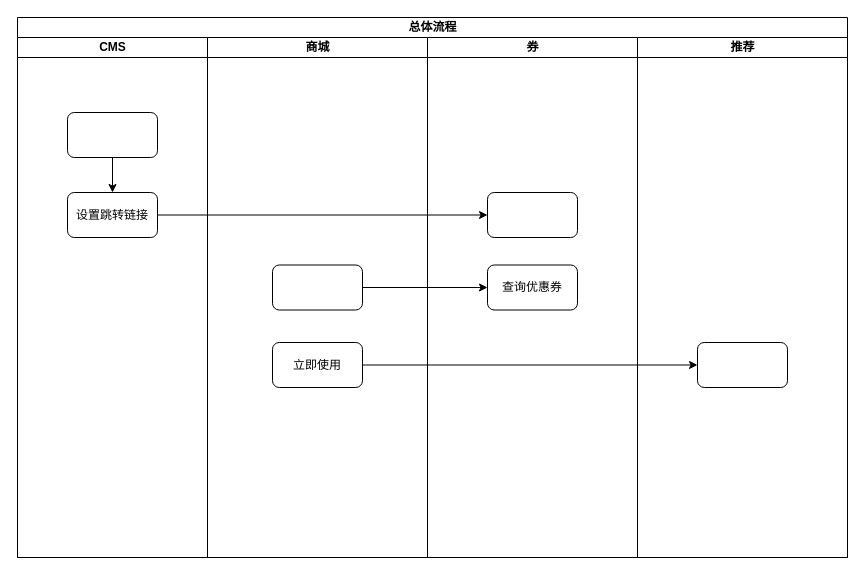
Some shapes in this 865 by 575 pixel diagram are drawn without their labels. The shapes that lost their labels are listed below. From the top down, each one's centre as x and y in pixels, then its label:
At point (112, 135): "新建优惠券".
At point (532, 215): "保存优惠券".
At point (317, 287): "优惠券列表".
At point (742, 365): "查询商品推荐".
